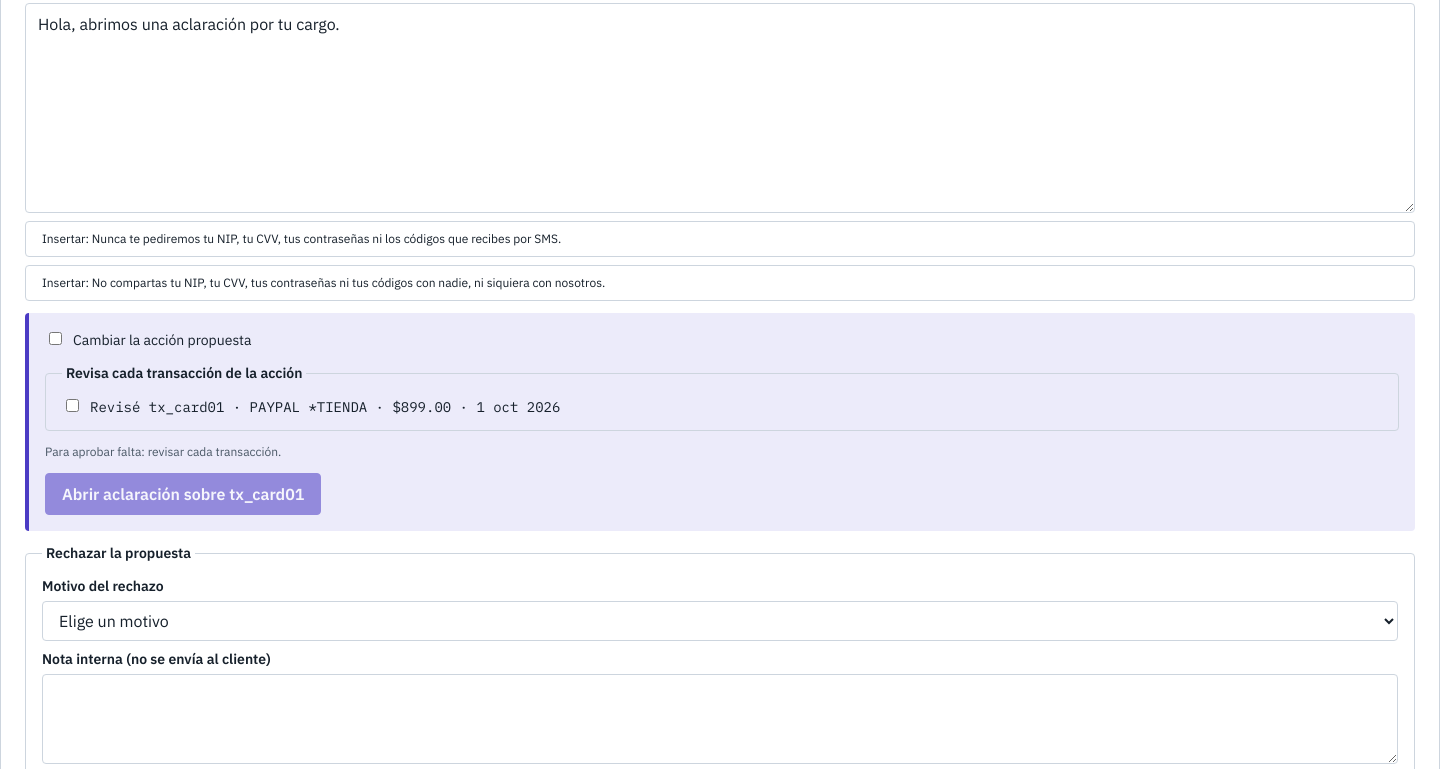
Scenario: decision panel (02 G3) › checks off a case the agent left without a tier, as a high one
The image size is (1440, 769).
(page scrolled)
Expected: the button "Abrir aclaración sobre tx_card01" is disabled, [45,473,321,515]
Click the checkbox labelled "Revisé tx_card01 · PAYPAL *TIENDA · $899.00 · 1 oct 2026": (72, 406) [66,399,79,412]
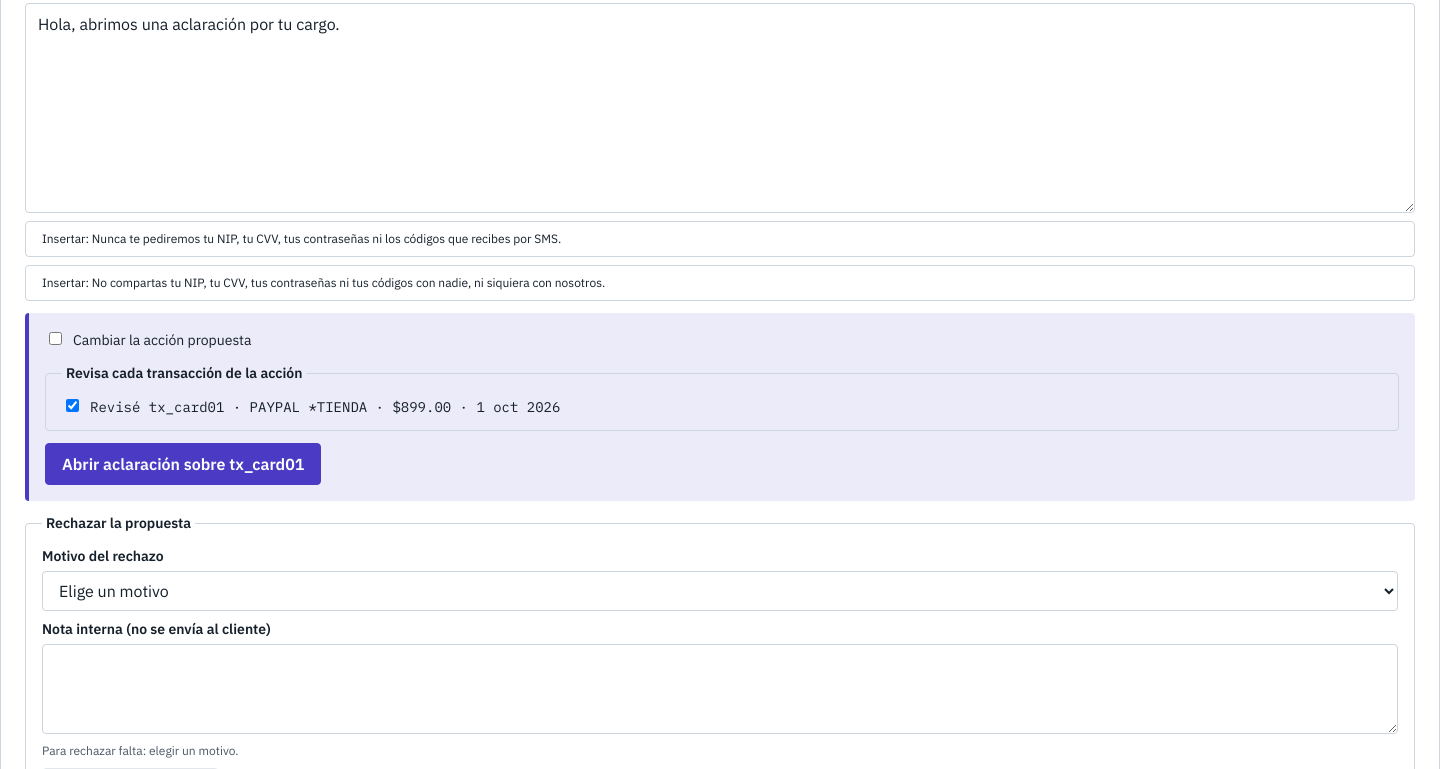
Expected: the button "Abrir aclaración sobre tx_card01" is enabled, [45,443,321,485]
